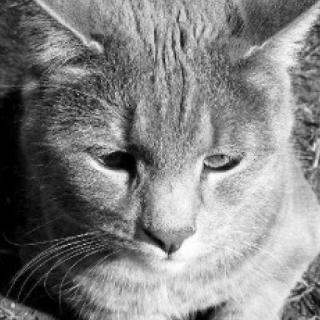cat: (25, 0, 301, 270)
nose: (138, 203, 200, 262)
